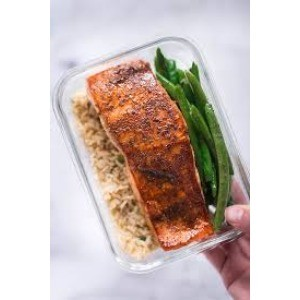salmon_brain food: (125, 64, 199, 254)
